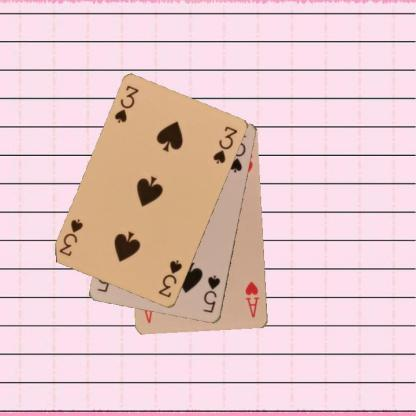3s: (156, 257, 184, 299), (112, 82, 140, 124)
5s: (201, 273, 222, 314)
Ah: (243, 279, 261, 319)
